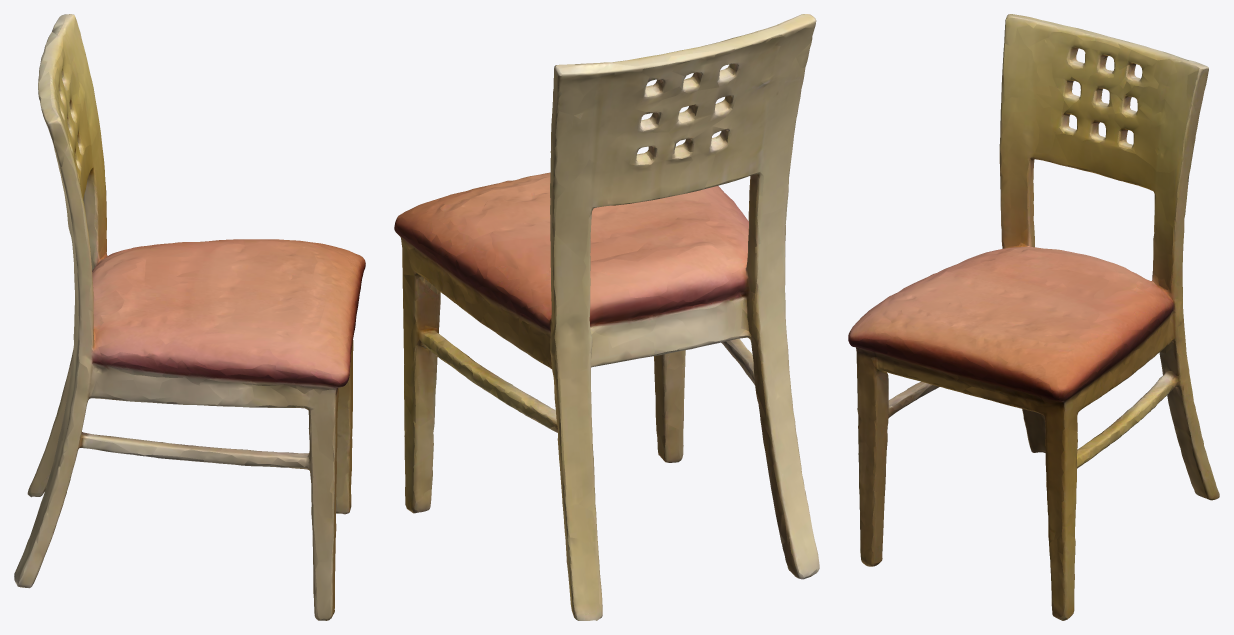
The model's file is chair-export.glb.
3 views of the same model, side by side, from view 1: azimuth 30°, elevation 25°; view 2: azimuth 150°, elevation 25°; view 3: azimuth 270°, elevation 25° (orthographic). The views are drawn at different scales.
Parts seen in each view (by area): view 1: unnamed_n3d; view 2: unnamed_n3d; view 3: unnamed_n3d.
Part boxes in pixels (x1,y1,x2,y2): unnamed_n3d: (14,14,365,620); unnamed_n3d: (394,14,819,620); unnamed_n3d: (848,14,1219,620).
Bounding box in the file's own units: 0.8972 × 1.18 × 0.8615.
Materials: 6 (6 with a texture image).
